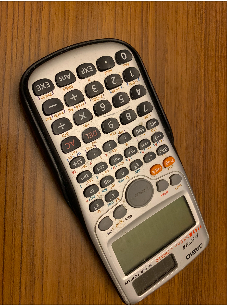object_name: (63, 68, 195, 271)
